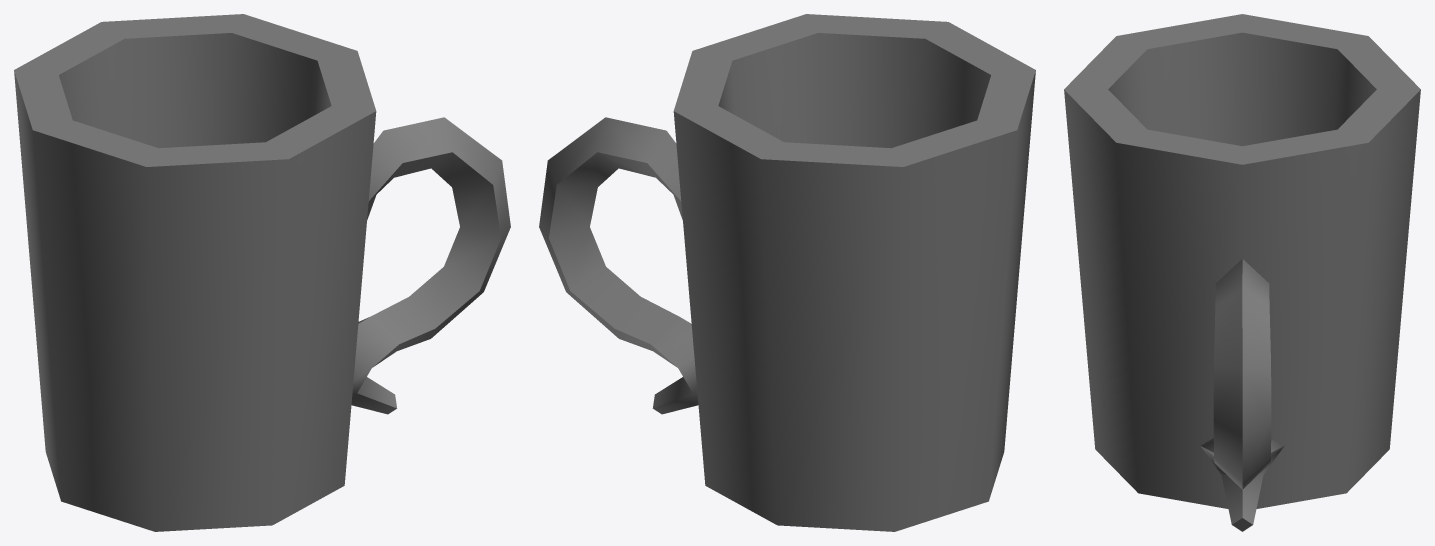
Rendered from Beerglass_A.fbx.
3 views of the same model, side by side, from view 1: azimuth 30°, elevation 25°; view 2: azimuth 150°, elevation 25°; view 3: azimuth 270°, elevation 25° (orthographic). The views are drawn at different scales.
Parts seen in each view (by area): view 1: Beerglass_A; view 2: Beerglass_A; view 3: Beerglass_A.
Part boxes in pixels (box(x1,y1,x2,y2)): Beerglass_A: box(14, 14, 510, 531); Beerglass_A: box(539, 14, 1035, 531); Beerglass_A: box(1064, 14, 1420, 531).
Size of the model in its own units: 24.86 by 18.79 by 16.89.
